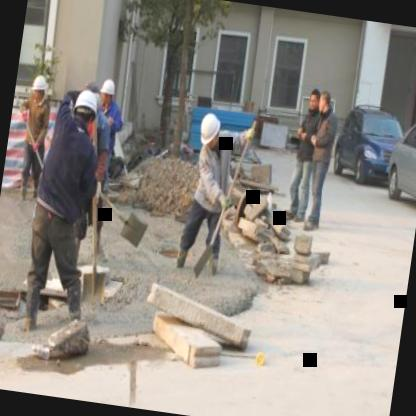head: (303, 86, 322, 114), (316, 89, 335, 116)
helmet: (66, 84, 100, 140), (195, 107, 225, 157), (25, 72, 48, 106), (96, 75, 116, 110)
